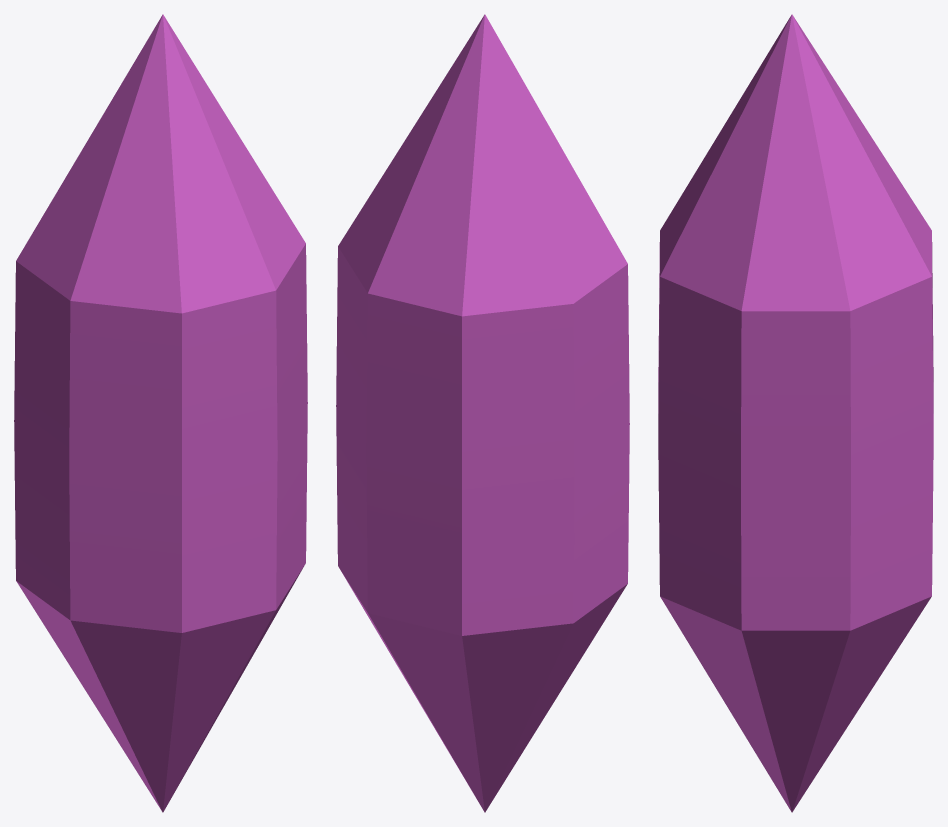
The model's file is Crystal.fbx.
3 renders of one model, left to right at view 1: azimuth 30°, elevation 25°; view 2: azimuth 150°, elevation 25°; view 3: azimuth 270°, elevation 25°, orthographic.
Parts seen in each view (by area): view 1: pCube1; view 2: pCube1; view 3: pCube1.
Part boxes in pixels (left/top/right/bottom): pCube1: left=14, top=14, right=307, bottom=812; pCube1: left=336, top=14, right=629, bottom=812; pCube1: left=658, top=14, right=933, bottom=812.
Size of the model in its own units: 0.8243 by 2.64 by 0.8243.
